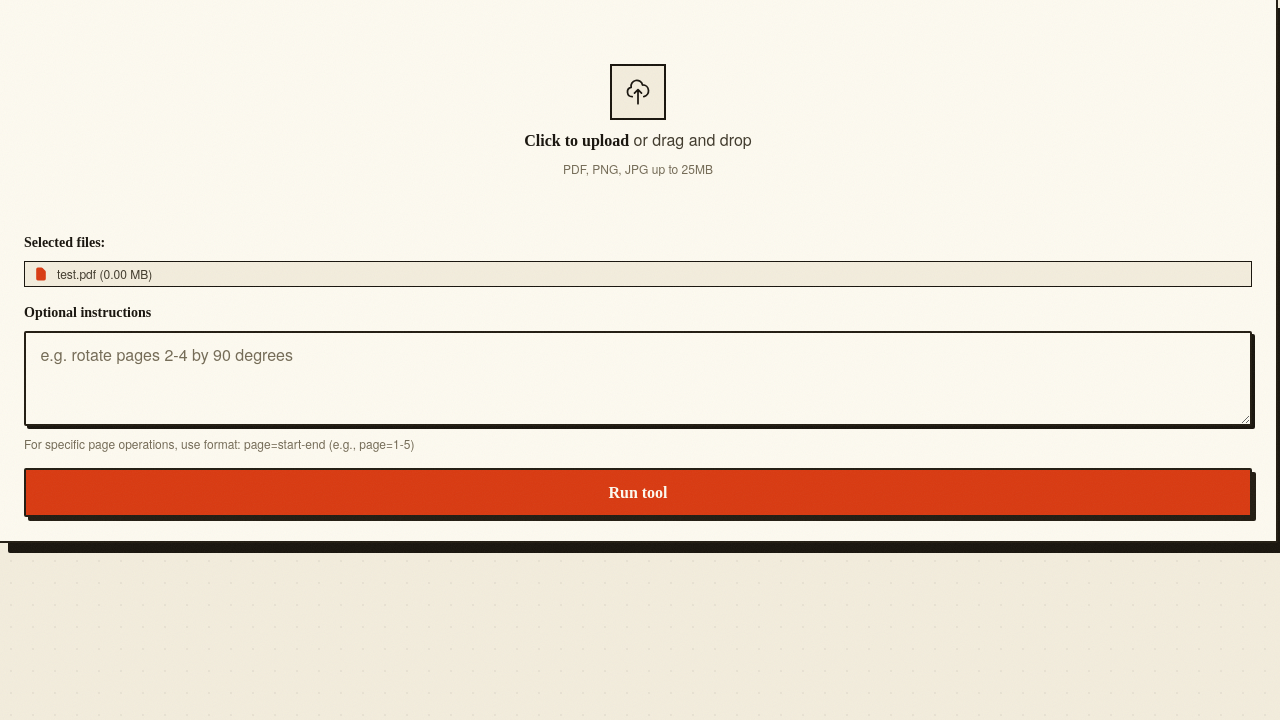
ToolUploadForm › handles successful submission
The image size is (1280, 720).
Earlier steps of the test are not shown.
Click the button "Run tool" at (638, 493), box x1=24 y1=468 x2=1252 y2=517
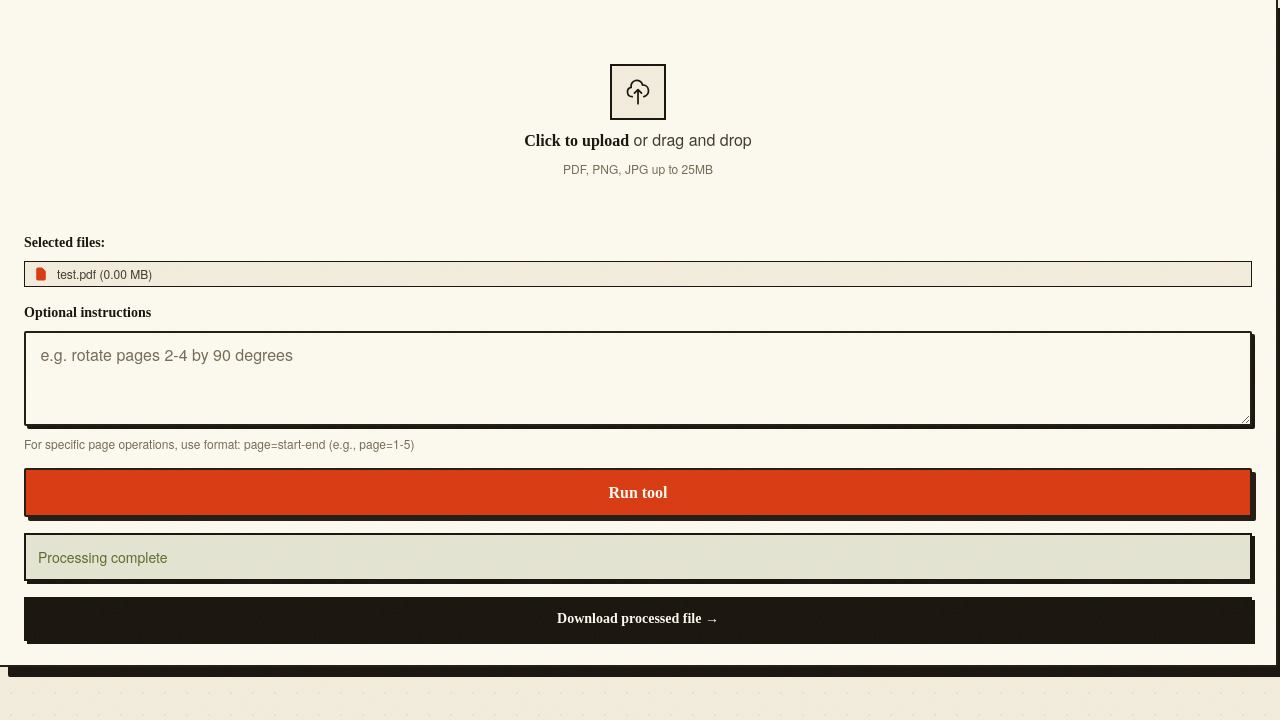
Result: the text "Processing complete" is shown at x1=24 y1=533 x2=1252 y2=581
